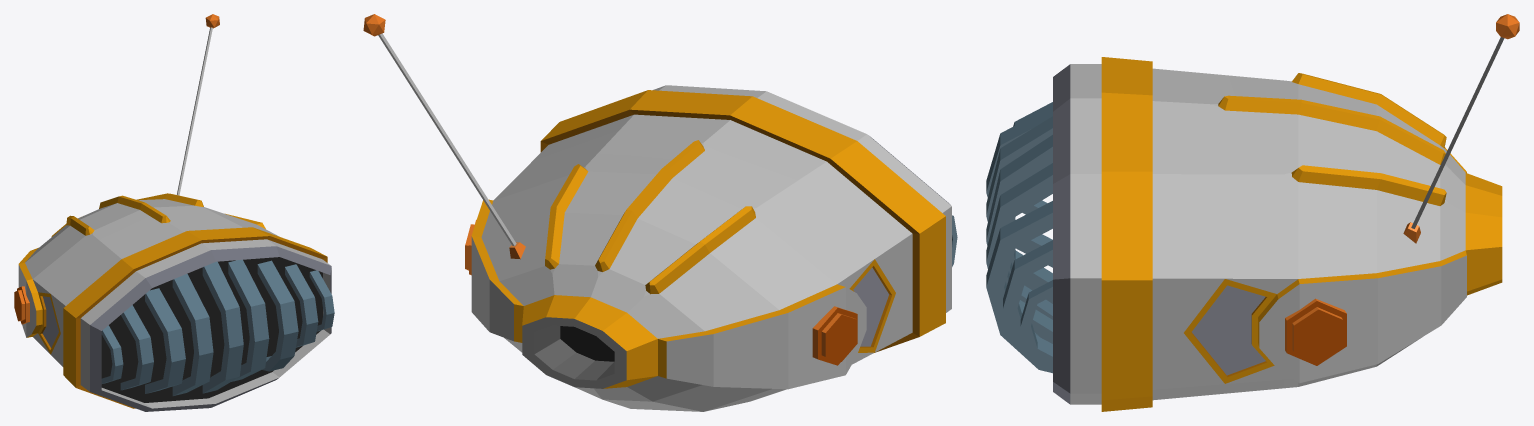
The model's file is Droid_02.glb.
The picture shows the model from 3 angles, left to right: view 1: azimuth 30°, elevation 25°; view 2: azimuth 150°, elevation 25°; view 3: azimuth 270°, elevation 25°; orthographic projection. The views are drawn at different scales.
Visible parts, largest first — view 1: Droid_02; view 2: Droid_02; view 3: Droid_02.
Part boxes in pixels (x1=…): Droid_02: x1=14, y1=14, x2=334, y2=411; Droid_02: x1=363, y1=14, x2=957, y2=411; Droid_02: x1=986, y1=14, x2=1519, y2=411.
Size of what is drawn, in the model's own units: 0.4828 by 0.4826 by 0.4957.
1 material, 1 textured.
